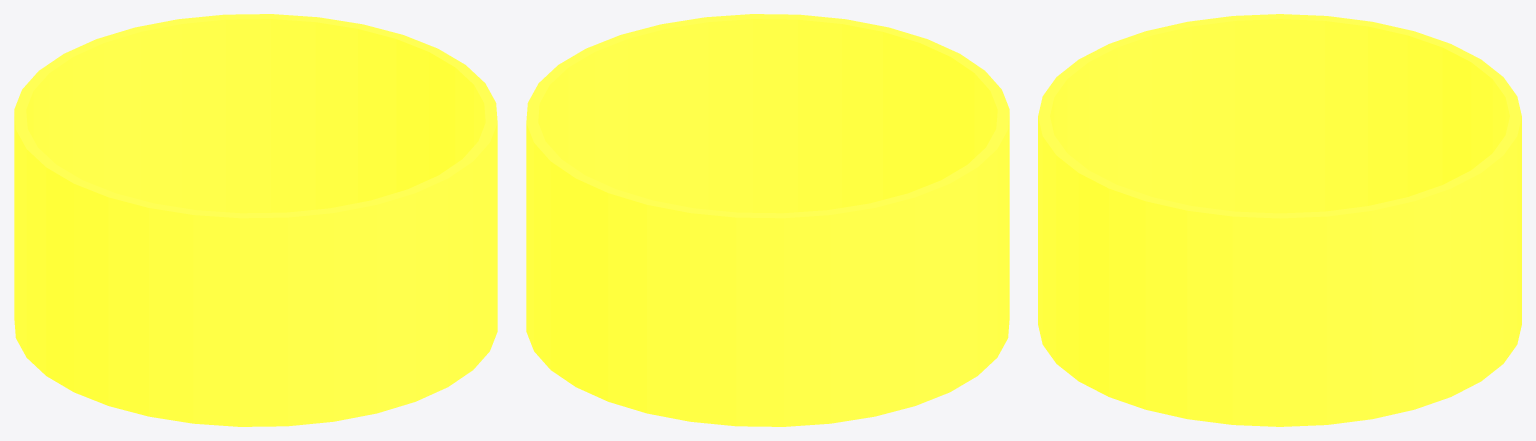
The model's file is checkpoint.fbx.
3 renders of one model, left to right at view 1: azimuth 30°, elevation 25°; view 2: azimuth 150°, elevation 25°; view 3: azimuth 270°, elevation 25°, orthographic.
Parts seen in each view (by area): view 1: Circle; view 2: Circle; view 3: Circle.
Part boxes in pixels (box(x1,y1,x2,y2)): Circle: box(14, 14, 497, 426); Circle: box(526, 14, 1009, 426); Circle: box(1038, 14, 1521, 426).
Size of the model in its own units: 630 by 300 by 630.
